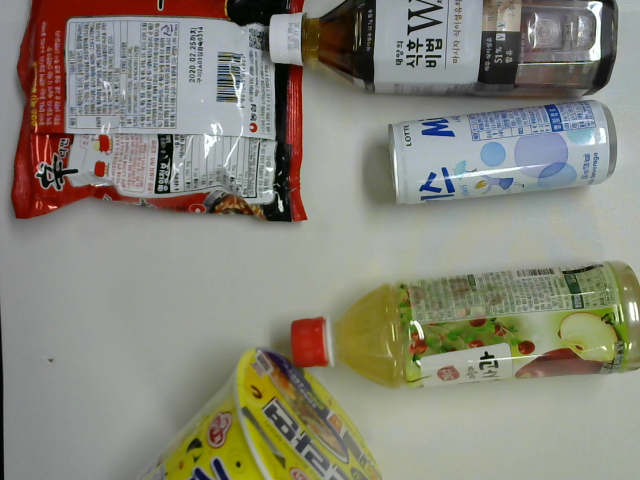Jinlamyeon_Mild_Taste_Large_Cup: (133, 346, 387, 480)
Milkies_250ml: (386, 96, 620, 208)
Morning_Apple_500ml: (288, 257, 640, 394)
Post-meal_recipe_W_tea_500ml: (267, 1, 621, 105)
Sinramen: (6, 1, 314, 228)
